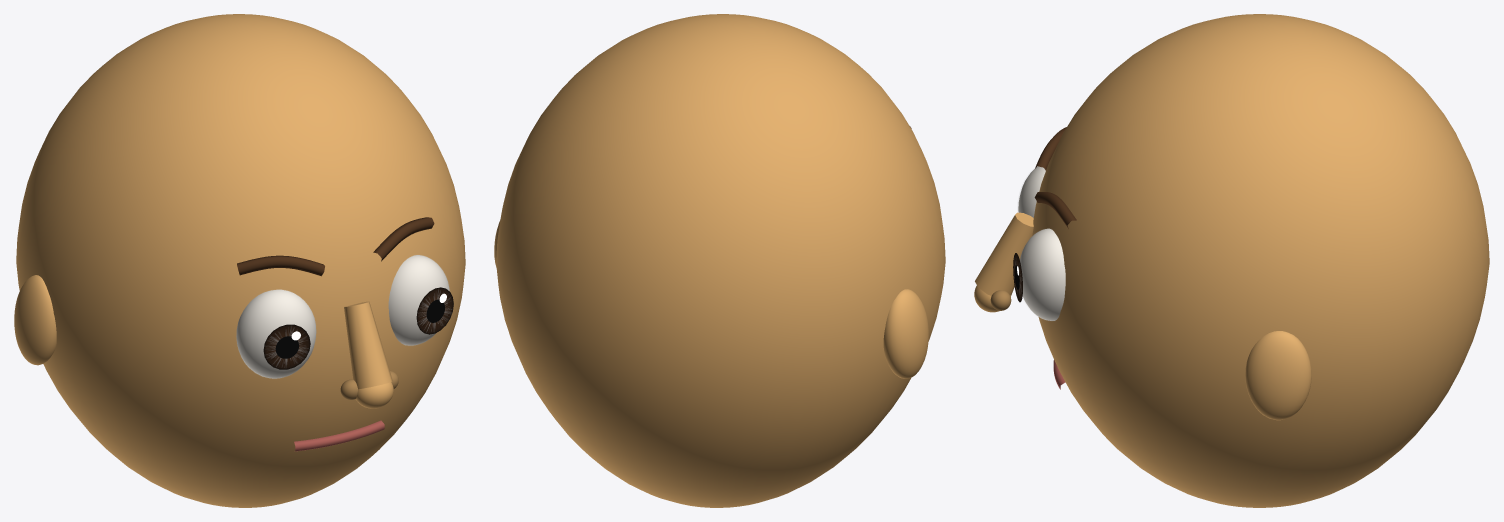
File: 01-droit.glb
The picture shows the model from 3 angles, left to right: view 1: azimuth 30°, elevation 25°; view 2: azimuth 150°, elevation 25°; view 3: azimuth 270°, elevation 25°; orthographic projection.
Size of the model in its own units: 0.3087 by 0.321 by 0.3258.
Materials: 9 (1 with a texture image).
